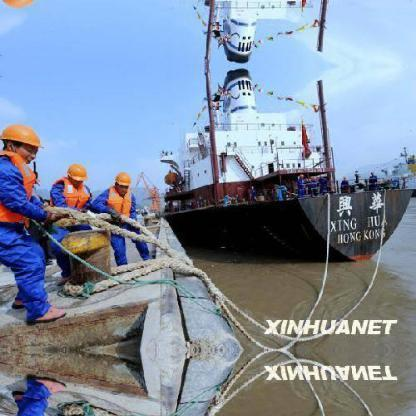helmet: (2, 121, 48, 157), (66, 163, 87, 187), (113, 169, 132, 195)
